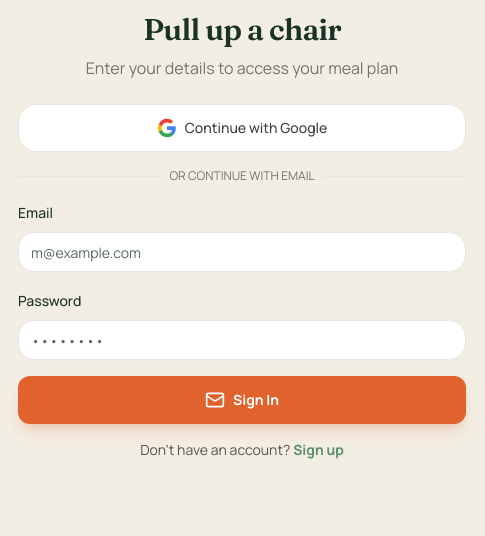
Scenario: AuthForm › handles Google sign in error
Click the button "Continue with Google": (242, 128) [18,104,466,152]
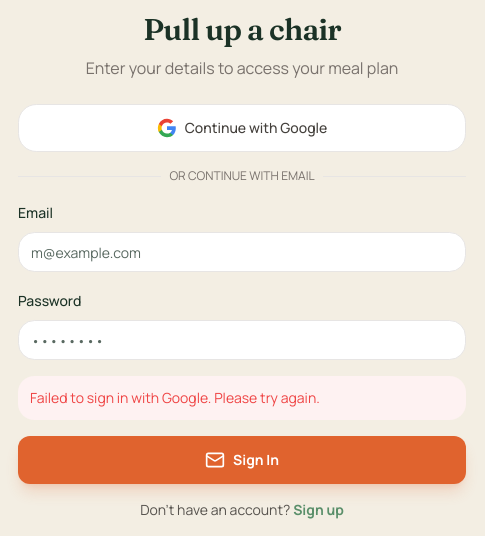
Expected: the text "Failed to sign in with Google. Please try again." is shown, [18,376,466,420]
